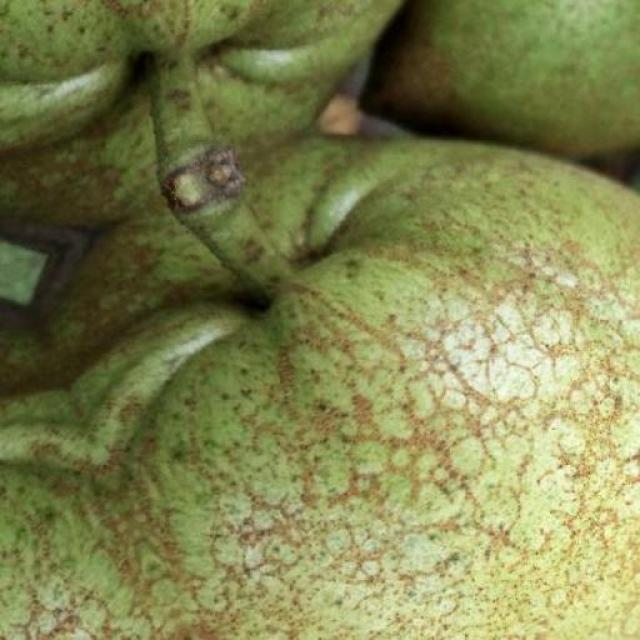Scab: (0, 0, 640, 640)
